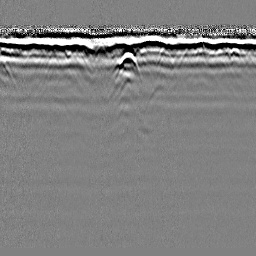cavity: (115, 50, 142, 77)
